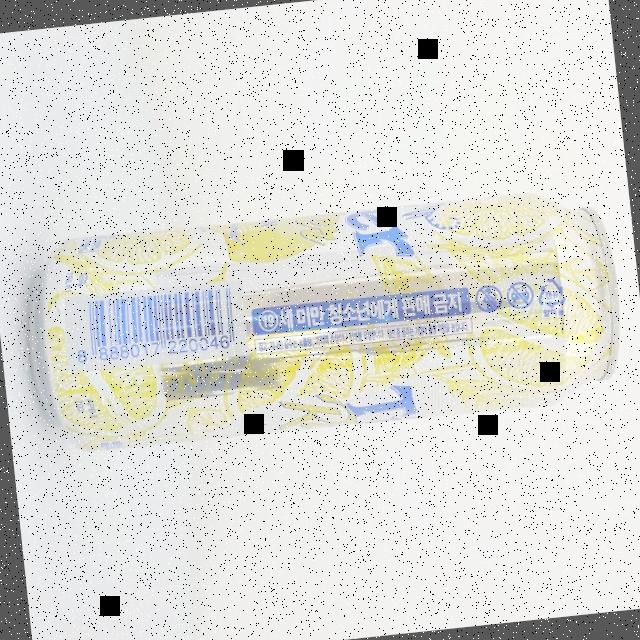can: (18, 180, 630, 459)
